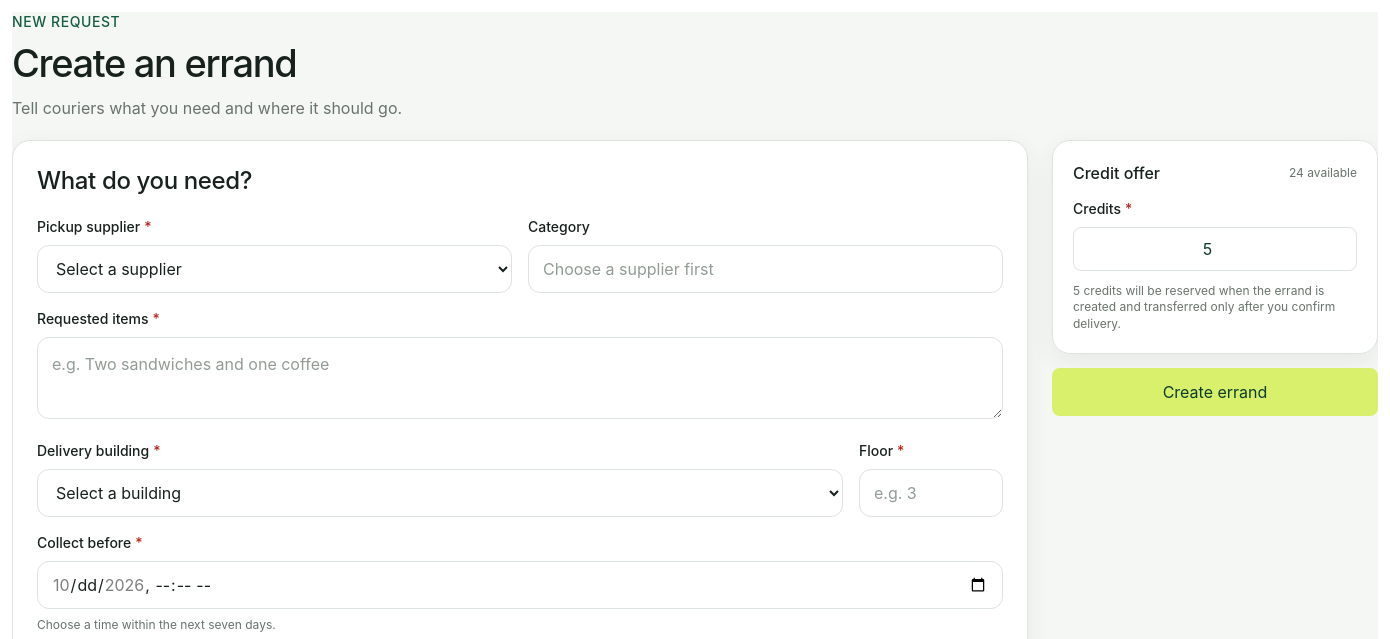
Scenario: CreateErrandPage › shows local validation errors without creating an errand
Click the button "Create errand" at (1215, 392), box [1052,368,1378,416]
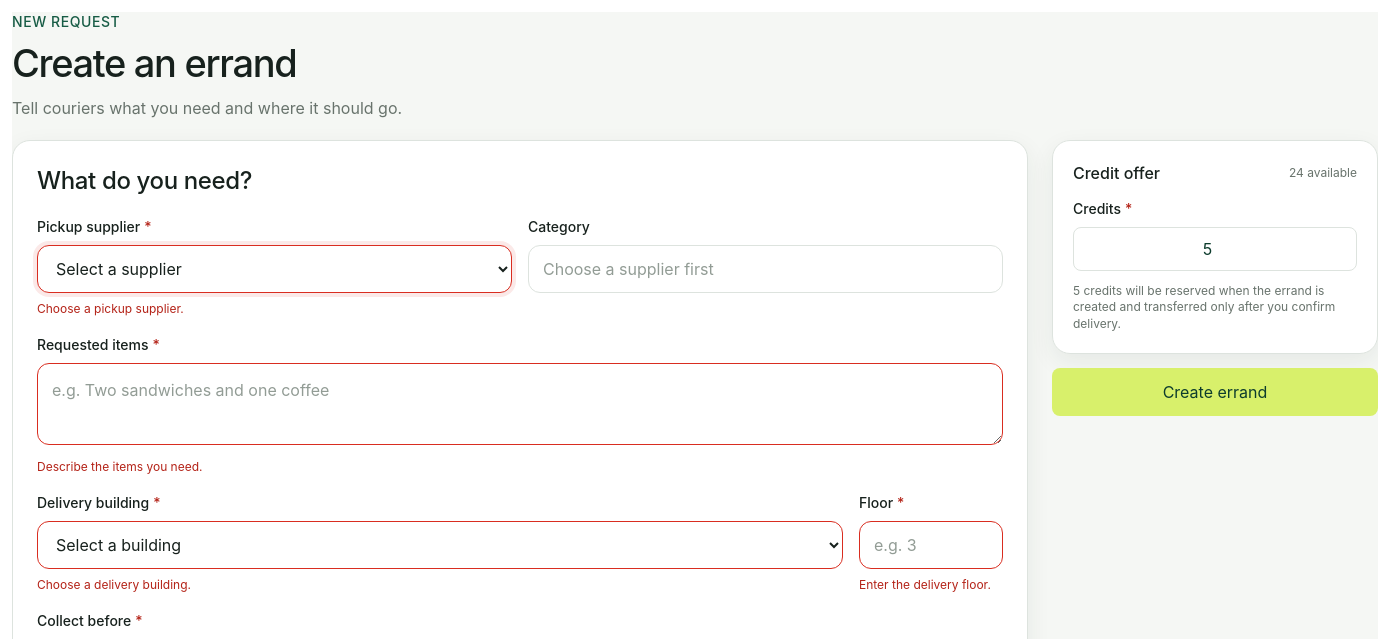
Expected: the text "Choose a pickup supplier." is shown, [37,300,184,316]
Expected: the text "Describe the items you need." is shown, [37,458,202,474]
Expected: the text "Choose a delivery building." is shown, [37,576,191,592]
